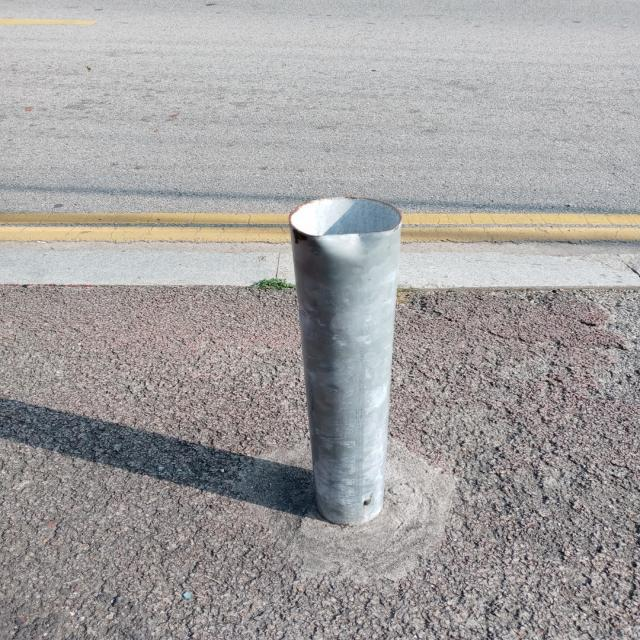pole: (289, 188, 407, 529)
